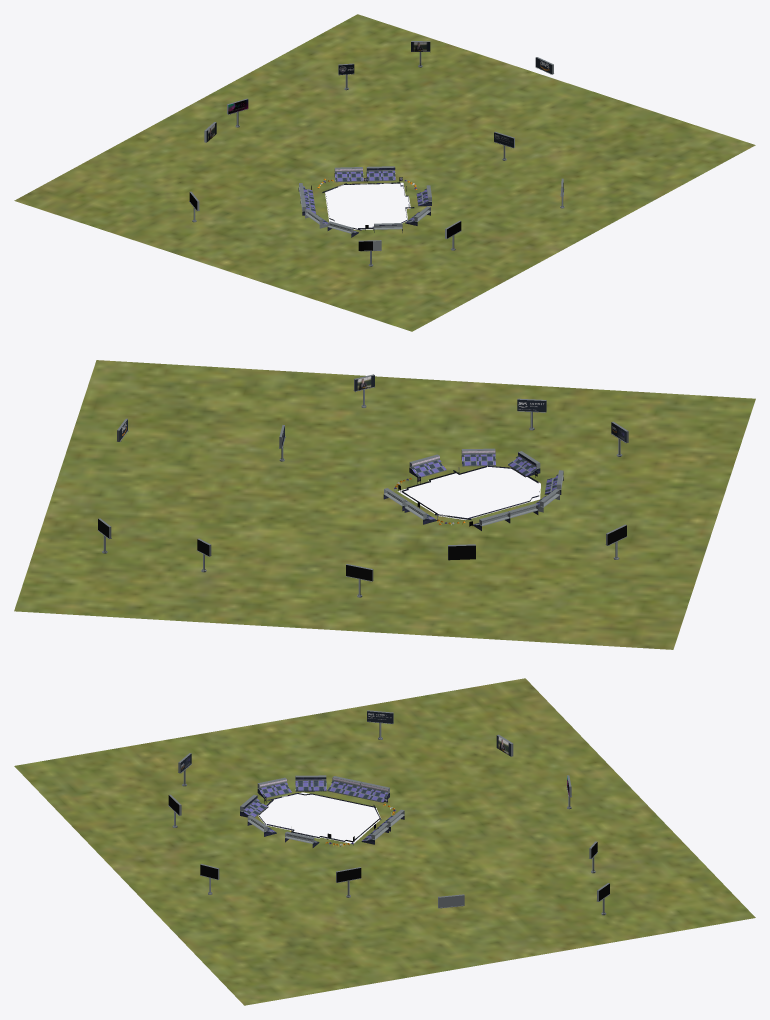
File: background.dae
3 renders of one model, top to bottom at view 1: azimuth 30°, elevation 25°; view 2: azimuth 150°, elevation 25°; view 3: azimuth 270°, elevation 25°, orthographic. The views are drawn at different scales.
Visible parts, largest first — view 1: grandstand; view 2: grandstand; view 3: grandstand.
Boxes of the visible parts, x1,y1,x2,y2 form: grandstand: (14, 14, 755, 331); grandstand: (14, 360, 755, 649); grandstand: (14, 678, 755, 1005).
Size of the model in its own units: 150 by 144 by 10.21.
1 material, 1 textured.
